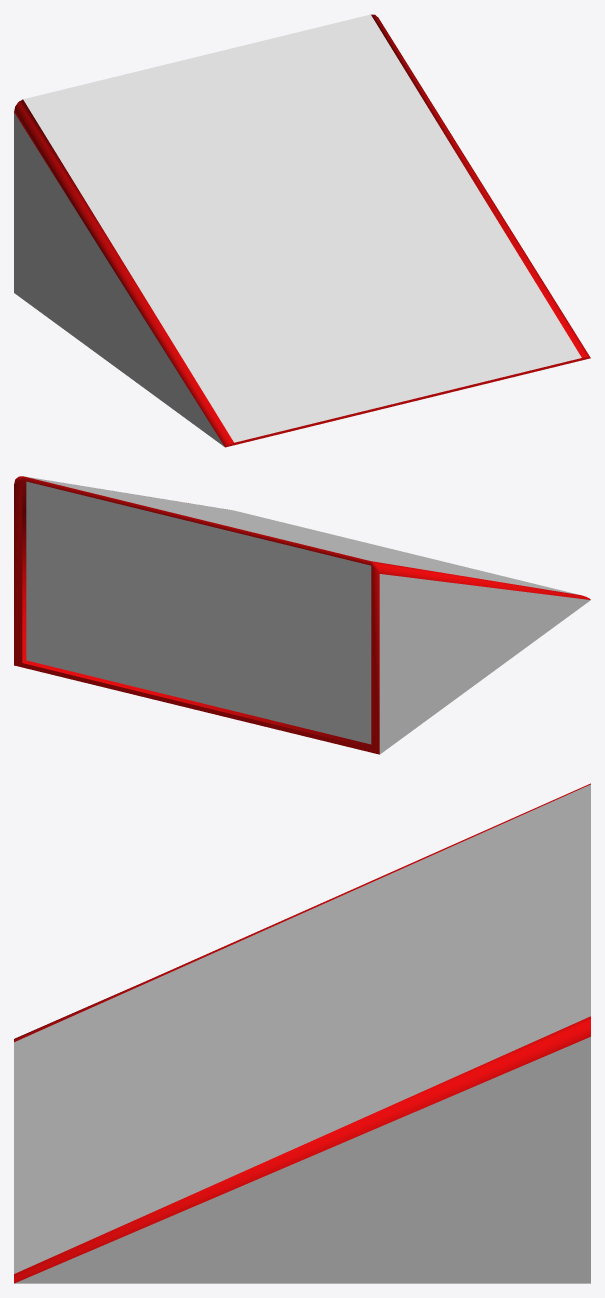
File: SM_Ramp_1M.fbx
3 views of the same model, one above another, from view 1: azimuth 30°, elevation 25°; view 2: azimuth 150°, elevation 25°; view 3: azimuth 270°, elevation 25° (orthographic). The views are drawn at different scales.
Visible parts, largest first — view 1: Ramp_1M; view 2: Ramp_1M; view 3: Ramp_1M.
Boxes of the visible parts, x1,y1,x2,y2 form: Ramp_1M: (14,14,590,447); Ramp_1M: (14,476,590,754); Ramp_1M: (14,783,590,1283).
Size of the model in its own units: 100 by 50 by 100.
